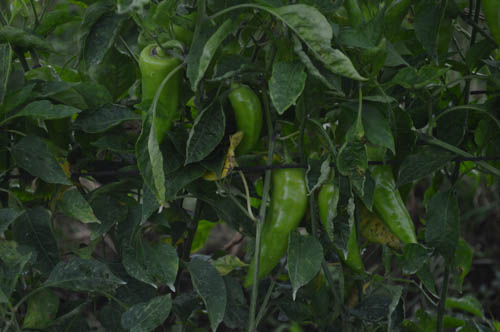ChiliPepper: (244, 166, 305, 288), (137, 50, 181, 145), (371, 167, 419, 246), (320, 184, 363, 270), (230, 87, 269, 158)
